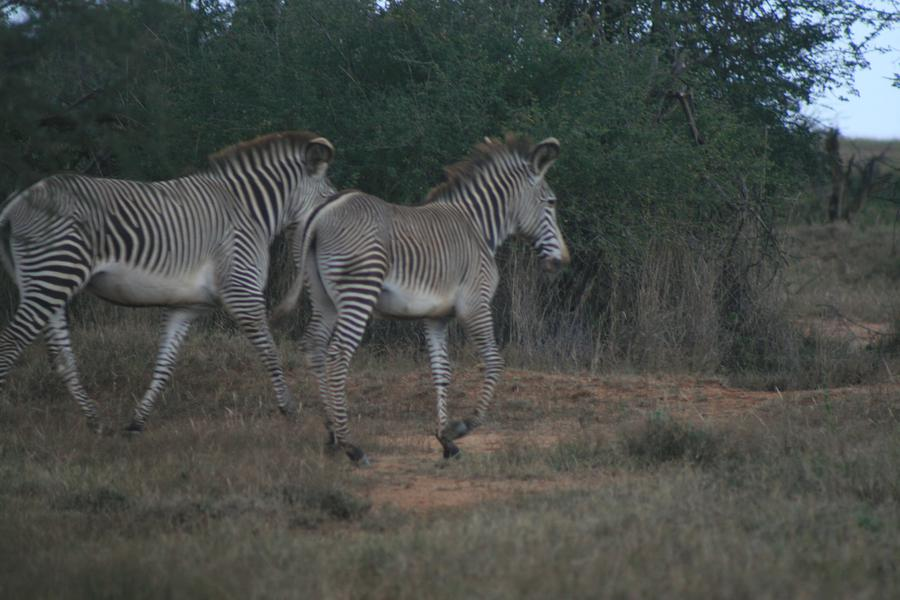zebra_grevys: (14, 153, 268, 298), (308, 184, 493, 307)
